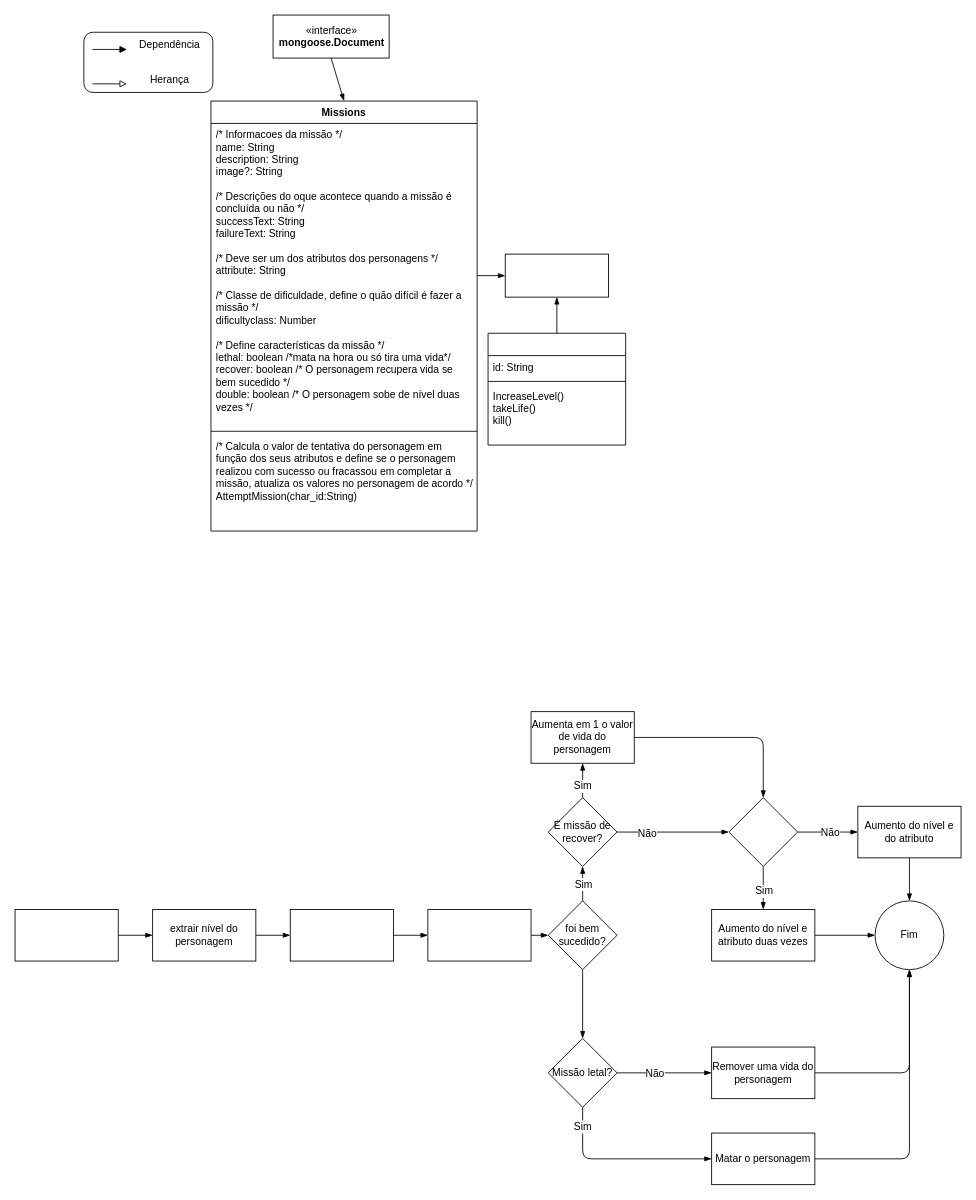
Some shapes in this 976 by 1200 pixel diagram are drawn without their labels. Each missing label, with the box of its shape:
Adquirir informações do personagem: (14, 909, 118, 961)
Calcular o sucesso ou fracasso na missão: (427, 909, 531, 961)
extrair valor do atributo definido na missão: (289, 909, 393, 961)
Personagem: (487, 332, 626, 445)
«interface» Personagem: (504, 253, 608, 297)
É missão de experiência em dobro?: (728, 797, 798, 866)
